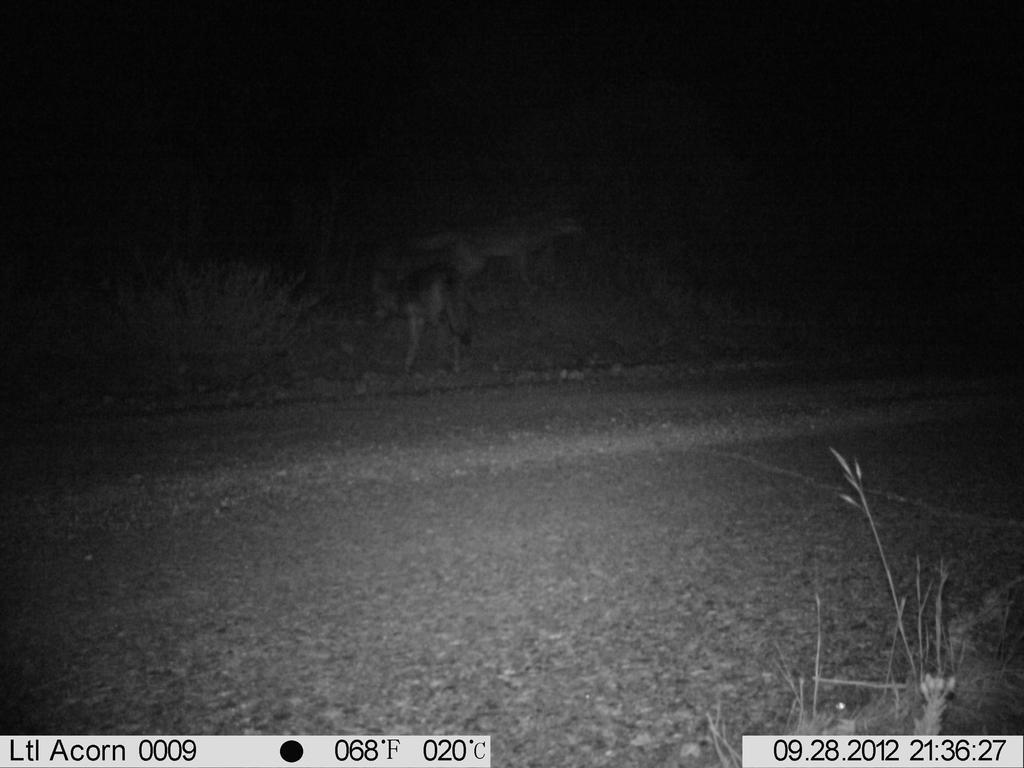coyote: (370, 265, 490, 382)
